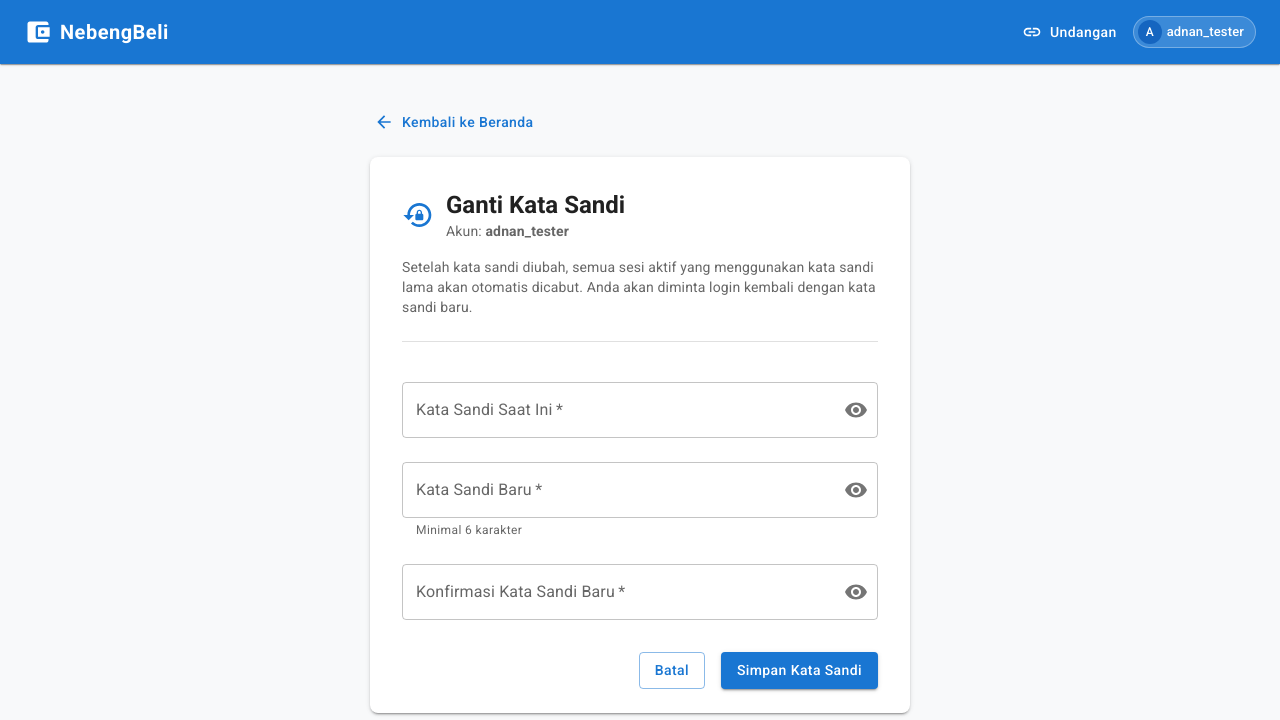
Scenario: F10: Self-Service Authenticated Password Change UI › validates minimum password length of 6 characters
The image size is (1280, 720).
Type "CurrentPass123!" into the password field labelled "Kata Sandi Saat Ini *" at (615, 410), box [402, 382, 828, 438]
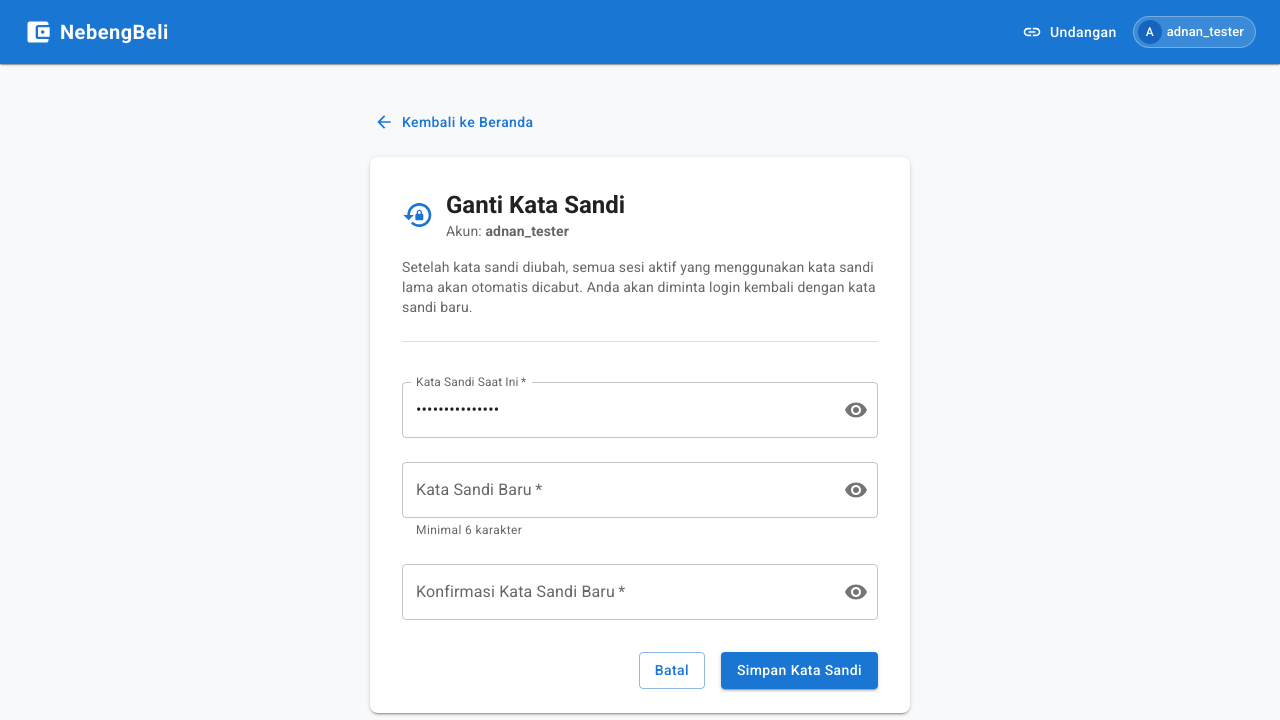
Type "123" into the password field labelled "Kata Sandi Baru *" at (615, 490), box [402, 462, 828, 518]
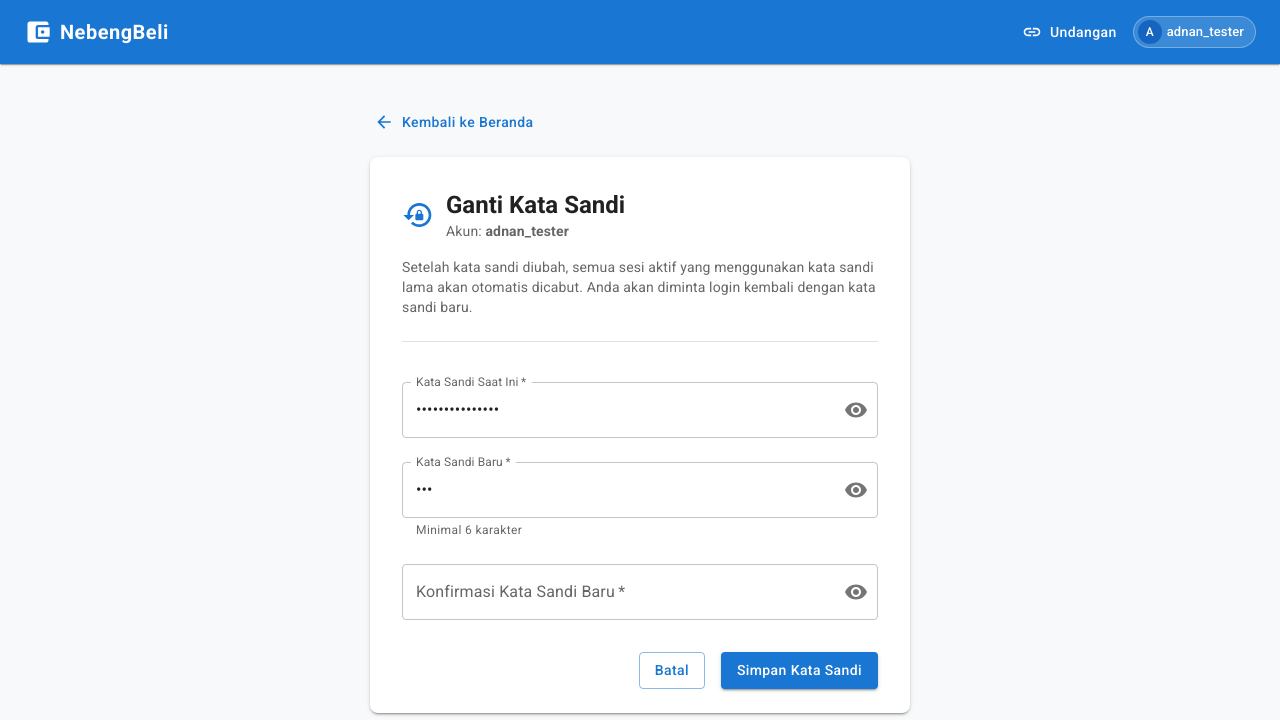
Type "123" into the password field labelled "Konfirmasi Kata Sandi Baru *" at (615, 592), box [402, 564, 828, 620]
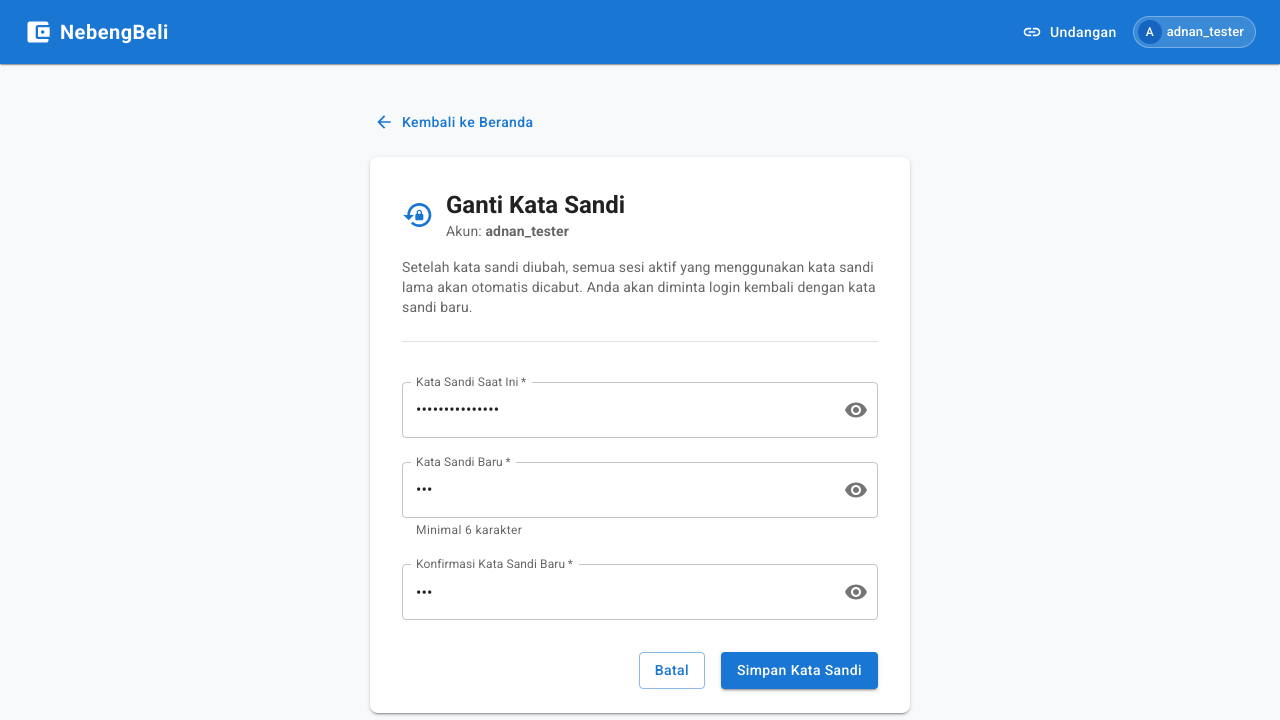
Click the button "Simpan Kata Sandi" at (799, 671), box [721, 652, 878, 689]
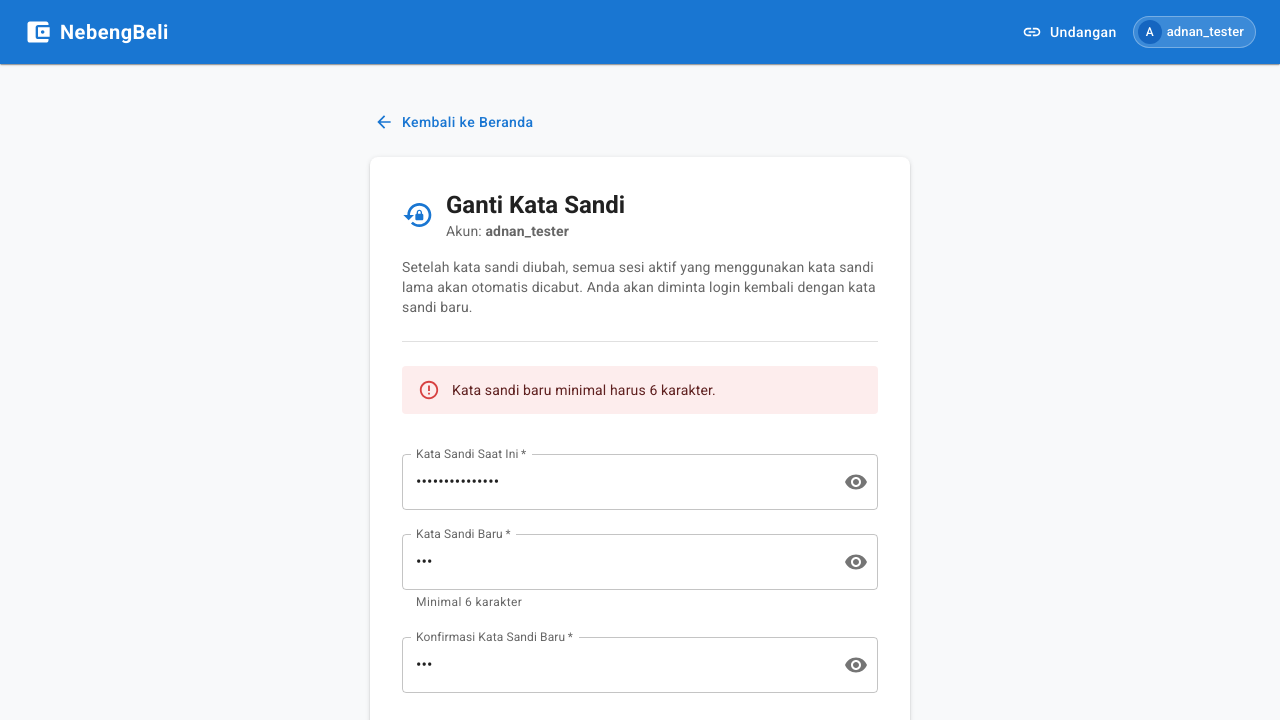
Expected: the text "Kata sandi baru minimal harus 6 karakter." is shown, [452, 382, 716, 398]
